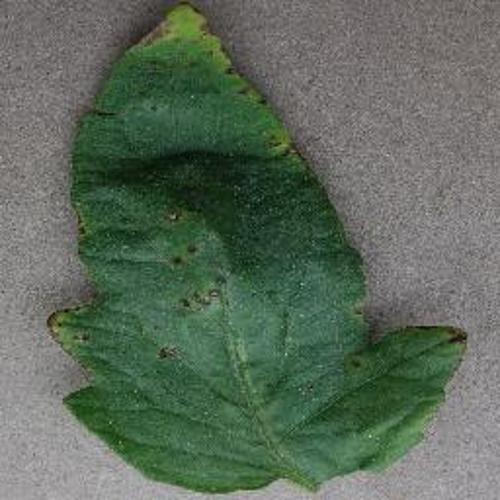Tomato: (48, 5, 470, 492)
